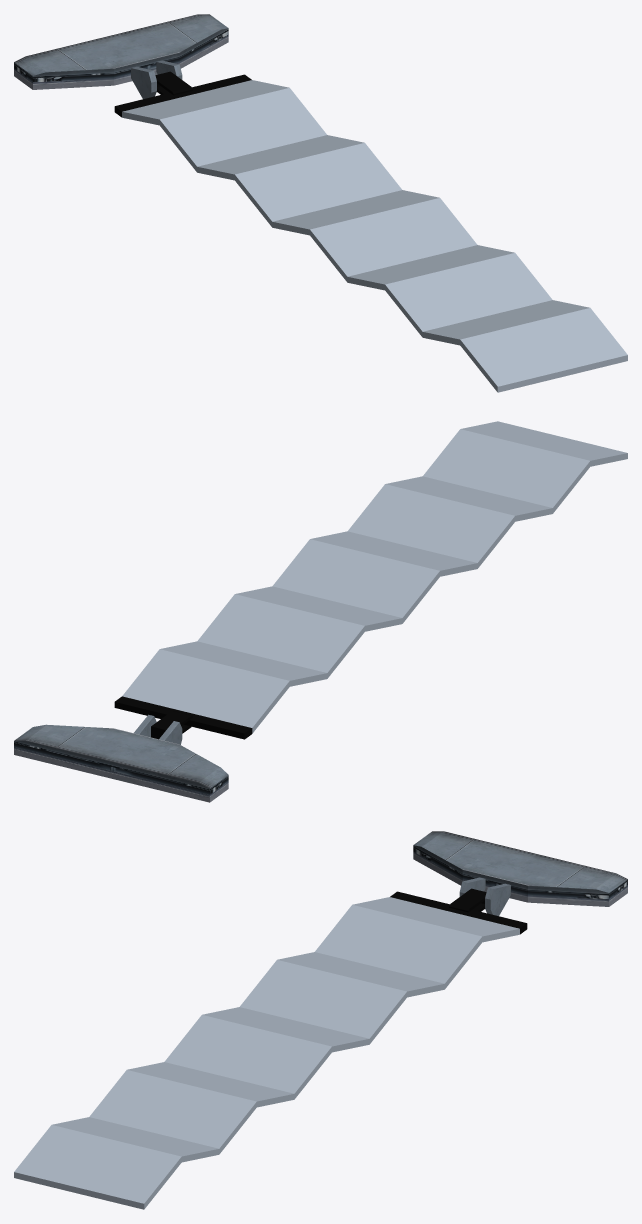
File: SolarBattery.fbx
3 views of the same model, one above another, from view 1: azimuth 30°, elevation 25°; view 2: azimuth 150°, elevation 25°; view 3: azimuth 330°, elevation 25° (orthographic).
Parts seen in each view (by area): view 1: Battery, Base, Mount, Hinge3, Hinge1; view 2: Battery, Base, Mount; view 3: Battery, Base, Mount, Hinge4, Hinge1.
Part boxes in pixels (x1,y1,x2,y2): Battery: [122, 80, 627, 392]; Base: [14, 14, 228, 89]; Mount: [114, 74, 251, 117]; Hinge3: [131, 66, 156, 99]; Hinge1: [155, 71, 192, 95]; Battery: [122, 421, 627, 733]; Base: [14, 724, 228, 802]; Mount: [114, 696, 252, 739]; Battery: [14, 897, 519, 1209]; Base: [413, 831, 627, 906]; Mount: [390, 891, 527, 934]; Hinge4: [485, 883, 510, 916]; Hinge1: [449, 888, 486, 912].
Bounding box in the file's own units: 602 × 121 × 2400.
